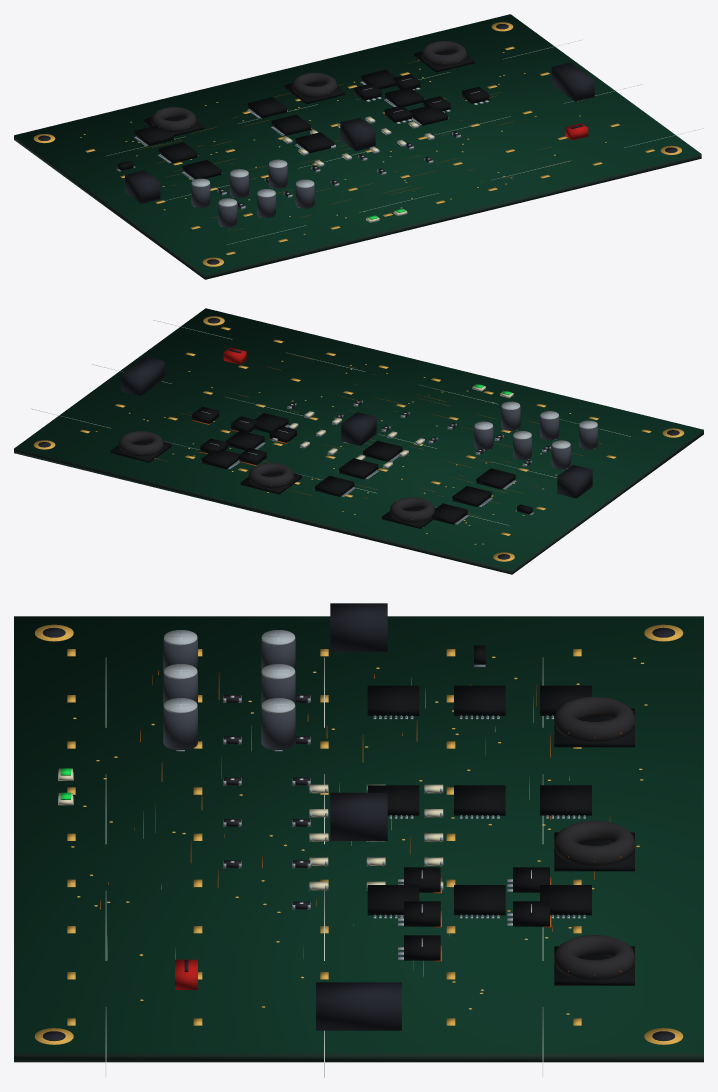
The model's file is L98_COMPLETE_BOARD_VISUAL_REFERENCE_ONLY.fbx.
3 renders of one model, top to bottom at view 1: azimuth 30°, elevation 25°; view 2: azimuth 150°, elevation 25°; view 3: azimuth 270°, elevation 25°, orthographic. The views are drawn at different scales.
Parts seen in each view (by area): view 1: Part_583, Part_582, Part_554, Part_536, Part_545, Part_367, Part_389, Part_345, Part_105, Part_140, Part_245, Part_035 (+9 smaller); view 2: Part_583, Part_582, Part_554, Part_545, Part_536, Part_345, Part_389, Part_367, Part_105, Part_000, Part_245, Part_140 (+7 smaller); view 3: Part_583, Part_582, Part_554, Part_367, Part_345, Part_389, Part_536, Part_545, Part_000, Part_105, Part_140, Part_245 (+19 smaller).
Part boxes in pixels (x1,y1,x2,y2): Part_583: (15, 14, 700, 274); Part_582: (14, 15, 701, 279); Part_554: (551, 62, 594, 101); Part_536: (125, 170, 160, 203); Part_545: (340, 118, 375, 151); Part_367: (292, 72, 337, 97); Part_389: (421, 41, 466, 65); Part_345: (151, 107, 196, 131); Part_105: (158, 142, 197, 163); Part_140: (271, 114, 310, 135); Part_245: (248, 97, 286, 118); Part_035: (295, 132, 334, 153); Part_583: (14, 308, 703, 569); Part_582: (14, 309, 703, 574); Part_554: (121, 356, 164, 395); Part_545: (341, 412, 376, 445); Part_536: (557, 465, 592, 498); Part_345: (390, 497, 434, 522); Part_389: (118, 431, 163, 456); Part_367: (248, 463, 293, 487); Part_105: (452, 486, 491, 506); Part_000: (476, 468, 515, 489); Part_245: (315, 476, 354, 496); Part_140: (339, 458, 378, 479); Part_583: (14, 616, 703, 1053); Part_582: (14, 616, 703, 1062); Part_554: (316, 982, 401, 1030); Part_367: (554, 820, 635, 865); Part_345: (554, 696, 635, 741); Part_389: (554, 935, 635, 979); Part_536: (330, 603, 387, 651); Part_545: (330, 792, 387, 840); Part_000: (367, 685, 419, 715); Part_105: (454, 685, 505, 715); Part_140: (454, 785, 505, 815); Part_245: (540, 785, 591, 815).
Bounding box in the file's own units: 0.19 × 0.12 × 0.00937.
